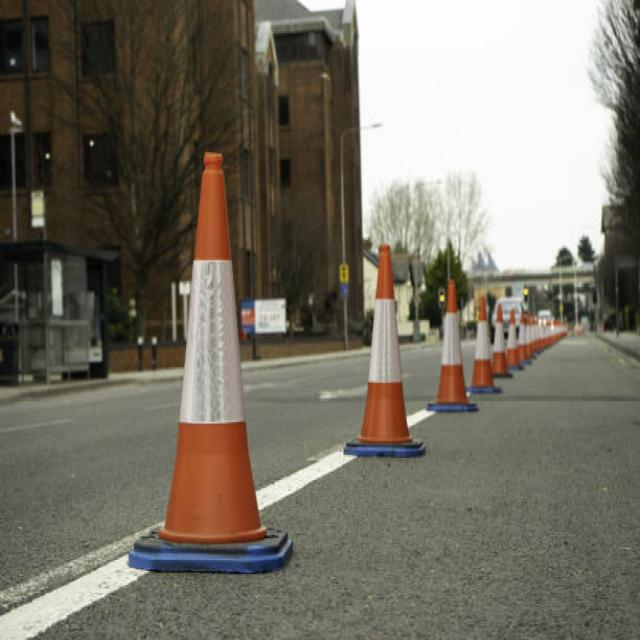Traffic Cone: (128, 106, 297, 596), (331, 207, 432, 488), (424, 266, 479, 428)
